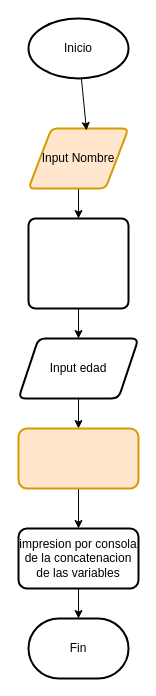
The diagram is 156 pixels wide and 696 high, and some of its shapes have lost their labels. The shapes that lost their labels are listed below. From the top down, each one's box as (x1, y1, x2, y2) in pixels, then its label:
(27, 217, 129, 309): Variable que almacena el valor del nombre
(17, 427, 139, 489): variable que almacena el valor de la edad
